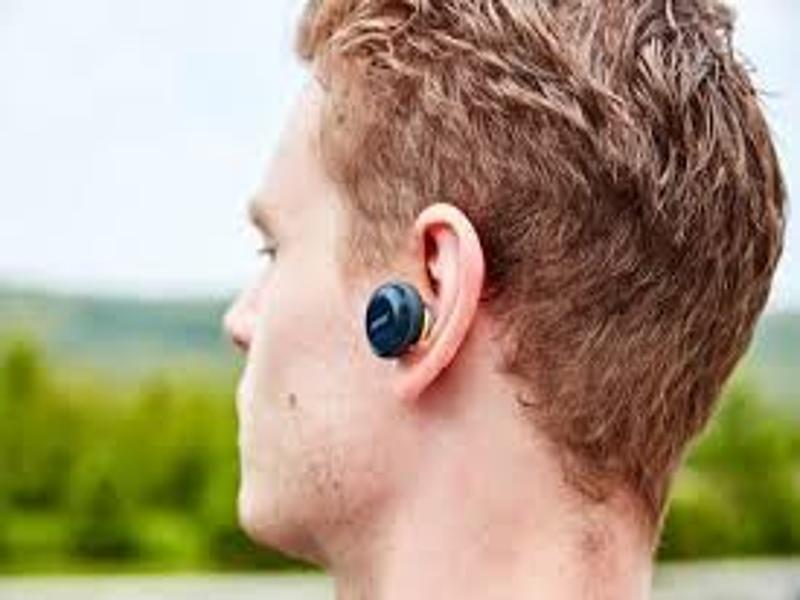headphone: (365, 280, 438, 364)
